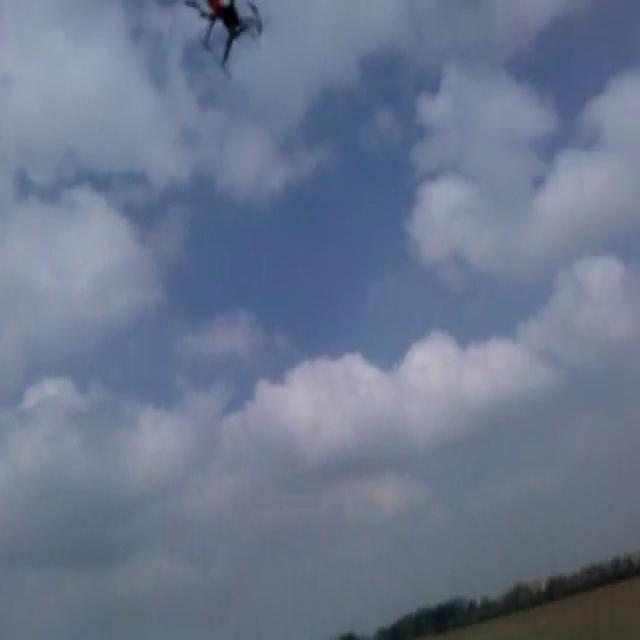drone: (183, 0, 264, 80)
